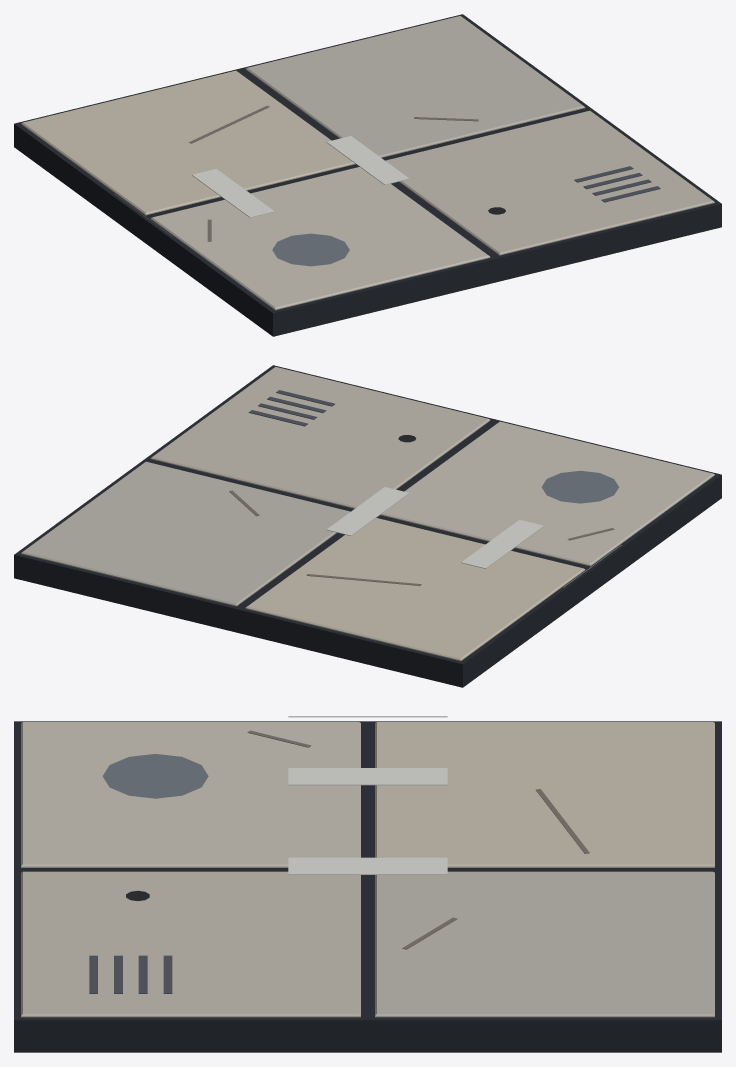
The model's file is floor_c.fbx.
3 views of the same model, one above another, from view 1: azimuth 30°, elevation 25°; view 2: azimuth 150°, elevation 25°; view 3: azimuth 270°, elevation 25° (orthographic). The views are drawn at different scales.
Parts seen in each view (by area): view 1: floor_c; view 2: floor_c; view 3: floor_c.
Part boxes in pixels (x1,y1,x2,y2): floor_c: [14, 14, 721, 336]; floor_c: [14, 365, 721, 687]; floor_c: [14, 716, 721, 1052].
Bounding box in the file's own units: 4 × 0.23 × 4.
